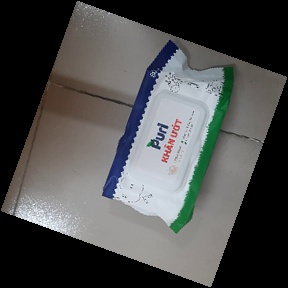Puri Trang: (101, 38, 238, 234)
